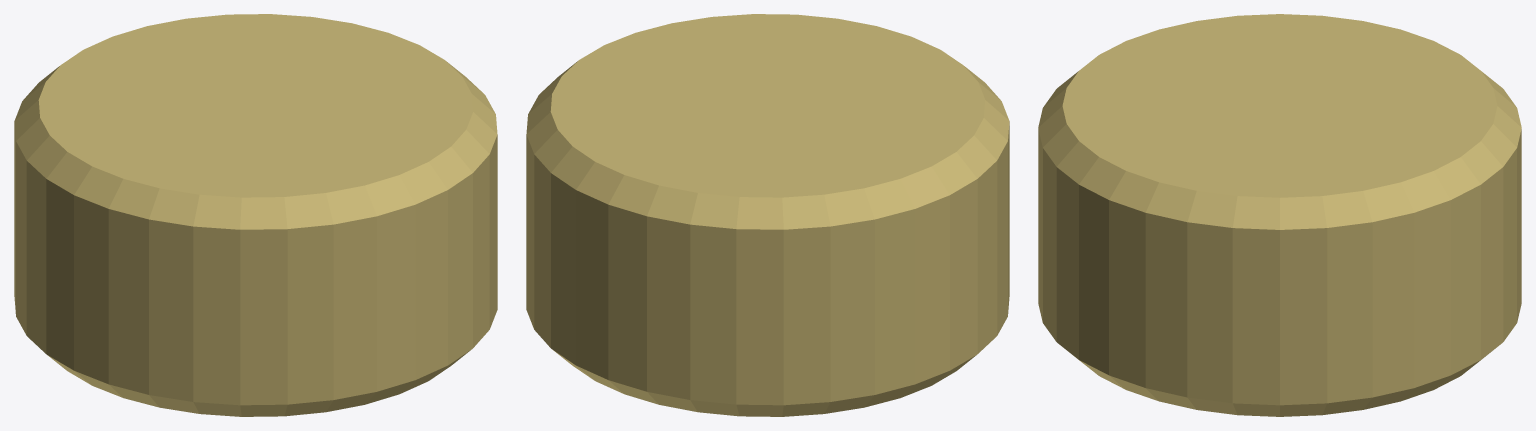
Rendered from Scaling Handle.fbx.
3 renders of one model, left to right at view 1: azimuth 30°, elevation 25°; view 2: azimuth 150°, elevation 25°; view 3: azimuth 270°, elevation 25°, orthographic.
Visible parts, largest first — view 1: Handle; view 2: Handle; view 3: Handle.
Part boxes in pixels (x1,y1,x2,y2): Handle: (14, 14, 497, 416); Handle: (526, 14, 1009, 416); Handle: (1038, 14, 1521, 416).
Size of the model in its own units: 20 by 10 by 20.
